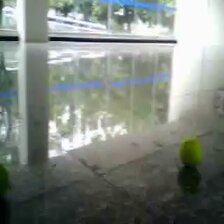tennis: (180, 138, 203, 163)
